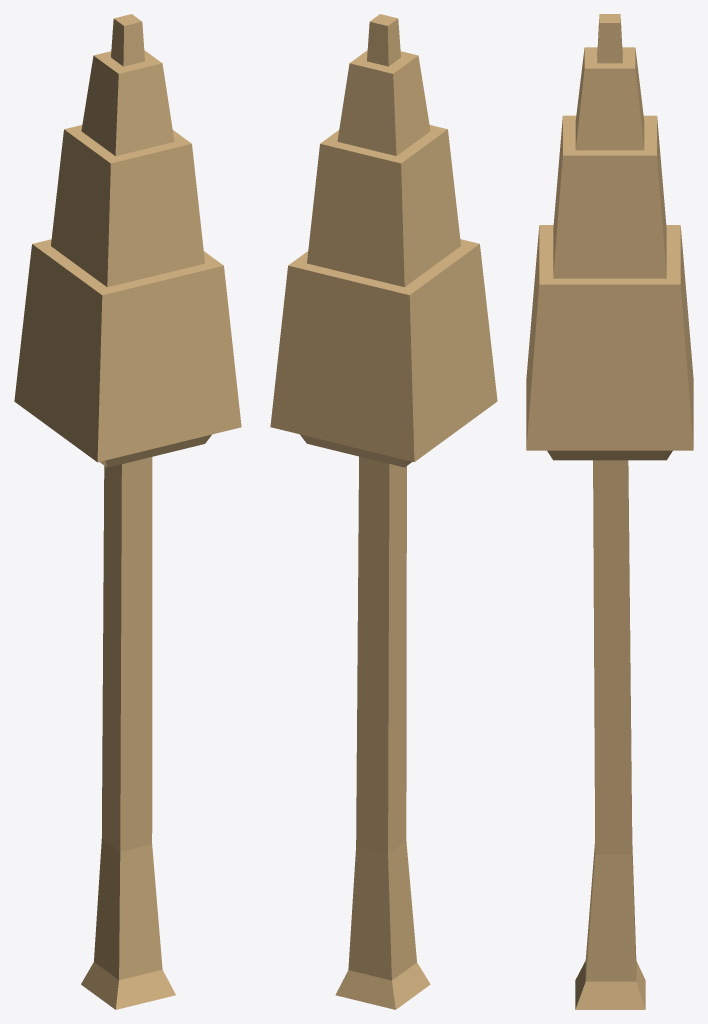
File: Mega_Asset_s_Pack_Cube_046.FBX
3 renders of one model, left to right at view 1: azimuth 30°, elevation 25°; view 2: azimuth 150°, elevation 25°; view 3: azimuth 270°, elevation 25°, orthographic.
Parts seen in each view (by area): view 1: Mega_Asset_s_Pack_Cube_046; view 2: Mega_Asset_s_Pack_Cube_046; view 3: Mega_Asset_s_Pack_Cube_046.
Boxes of the visible parts, bbox=[...] form: Mega_Asset_s_Pack_Cube_046: bbox=[14, 14, 241, 1009]; Mega_Asset_s_Pack_Cube_046: bbox=[270, 14, 497, 1009]; Mega_Asset_s_Pack_Cube_046: bbox=[526, 14, 693, 1009].
Size of what is drawn, in the model's own units: 308 by 308 by 1985.
